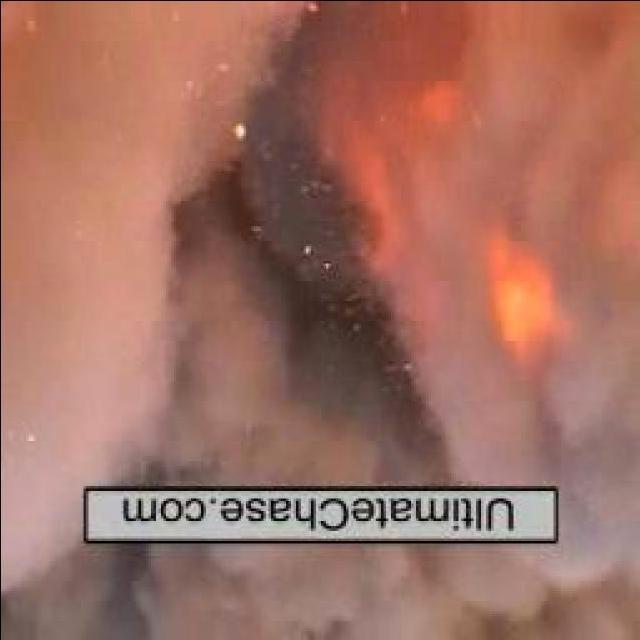Fire: (320, 58, 552, 390)
